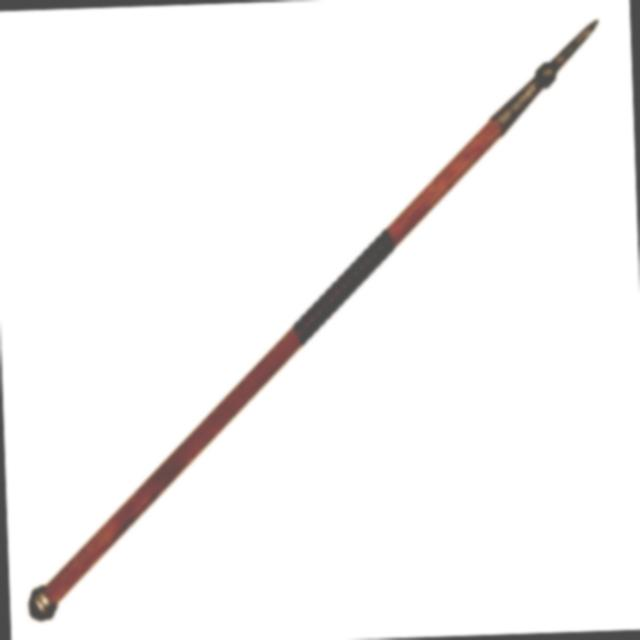spear: (2, 1, 626, 638)
